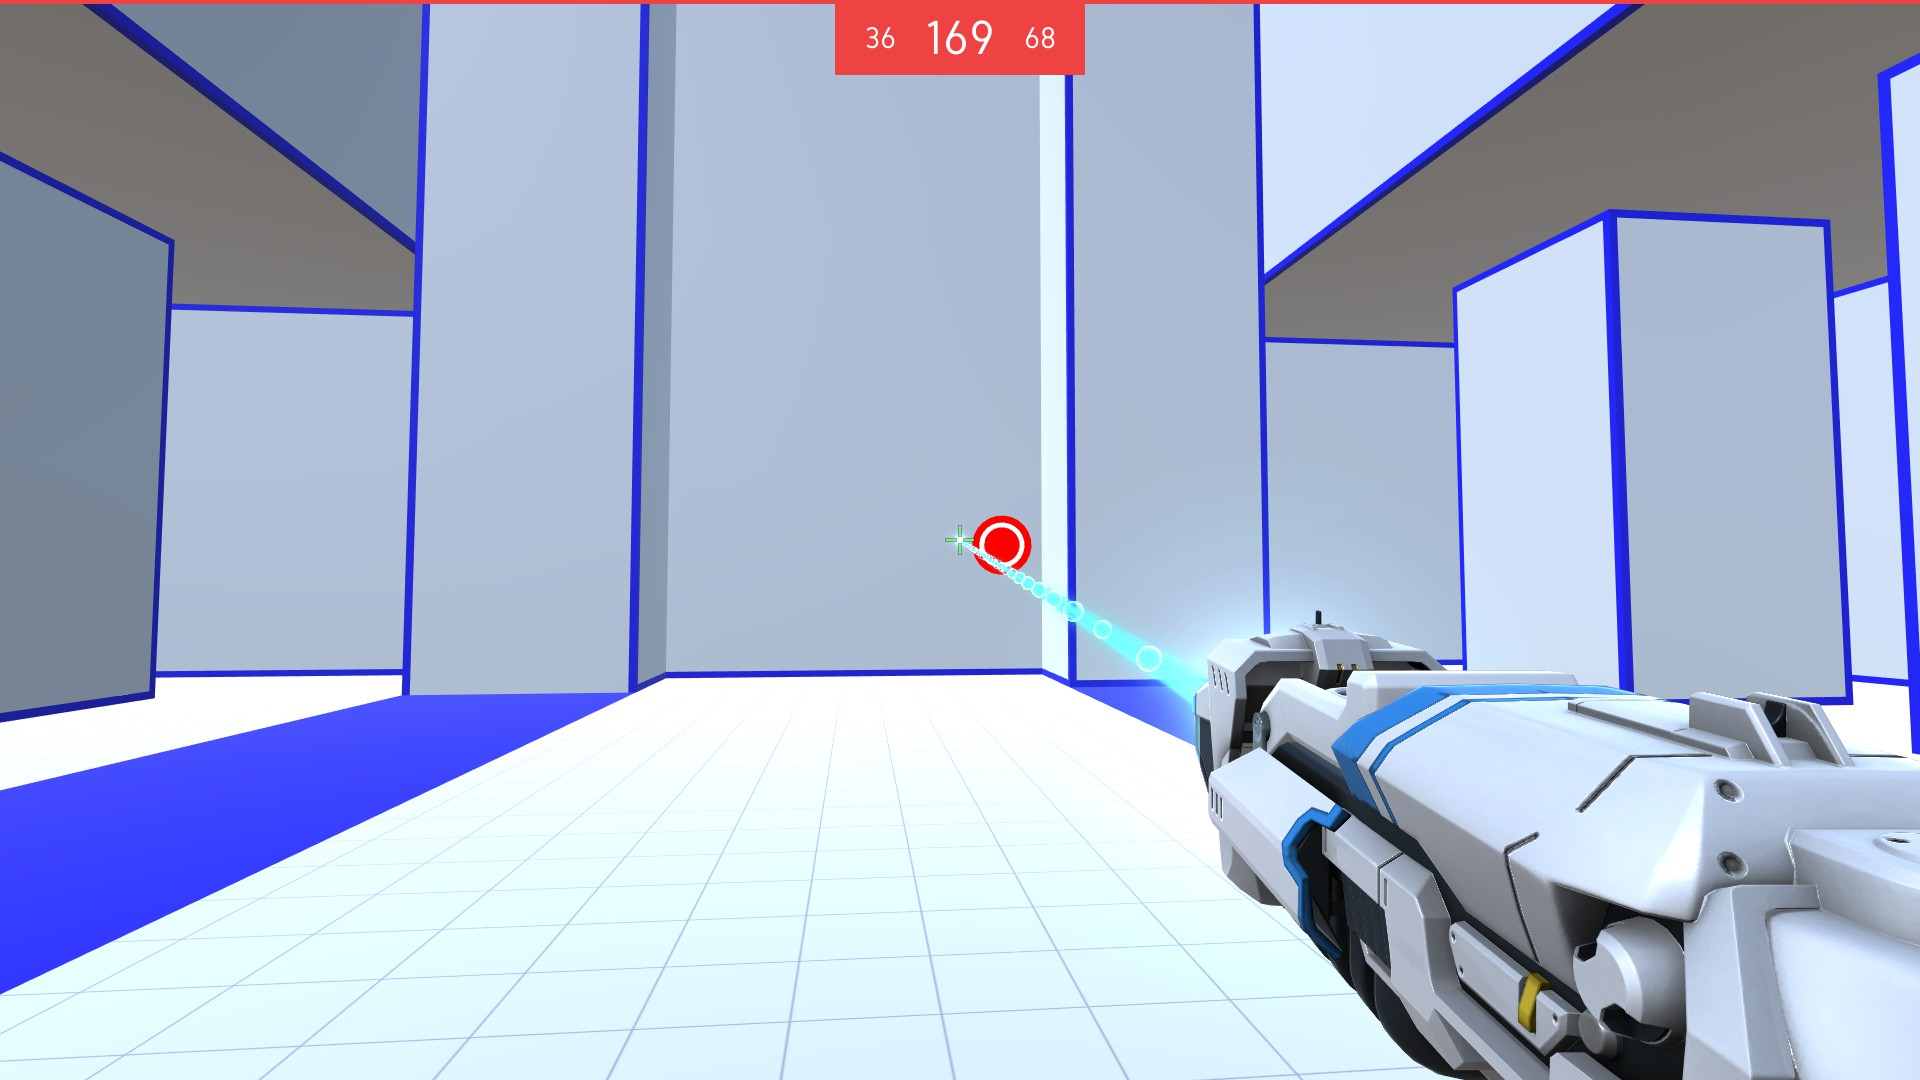target: (969, 513, 1038, 576)
